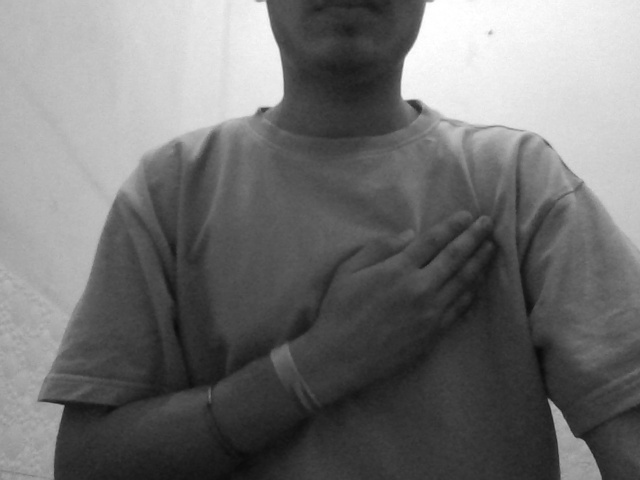Sorry: (270, 195, 534, 426)
